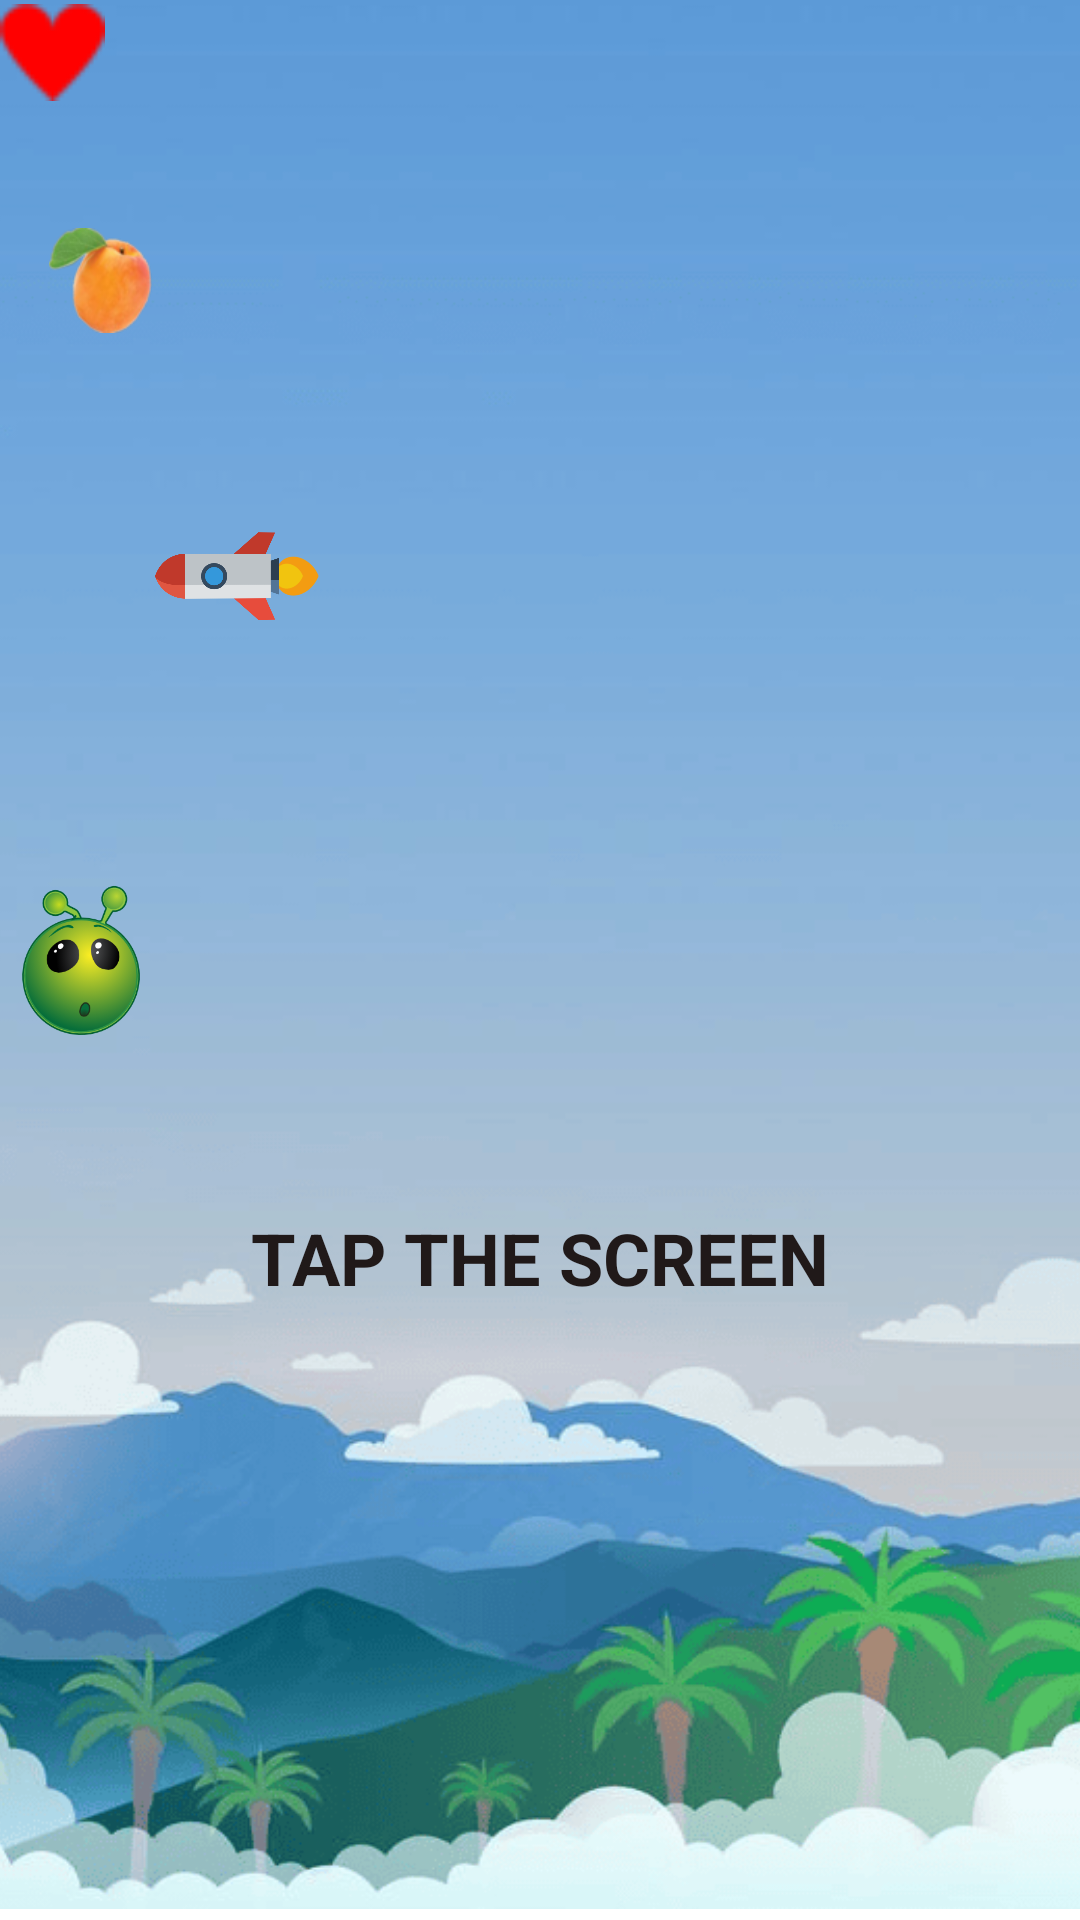

Screen size 1080w x 1920h. Icon name, then its box in pixels as (x1, y1, x2, y2):
life: (0, 4, 105, 101)
